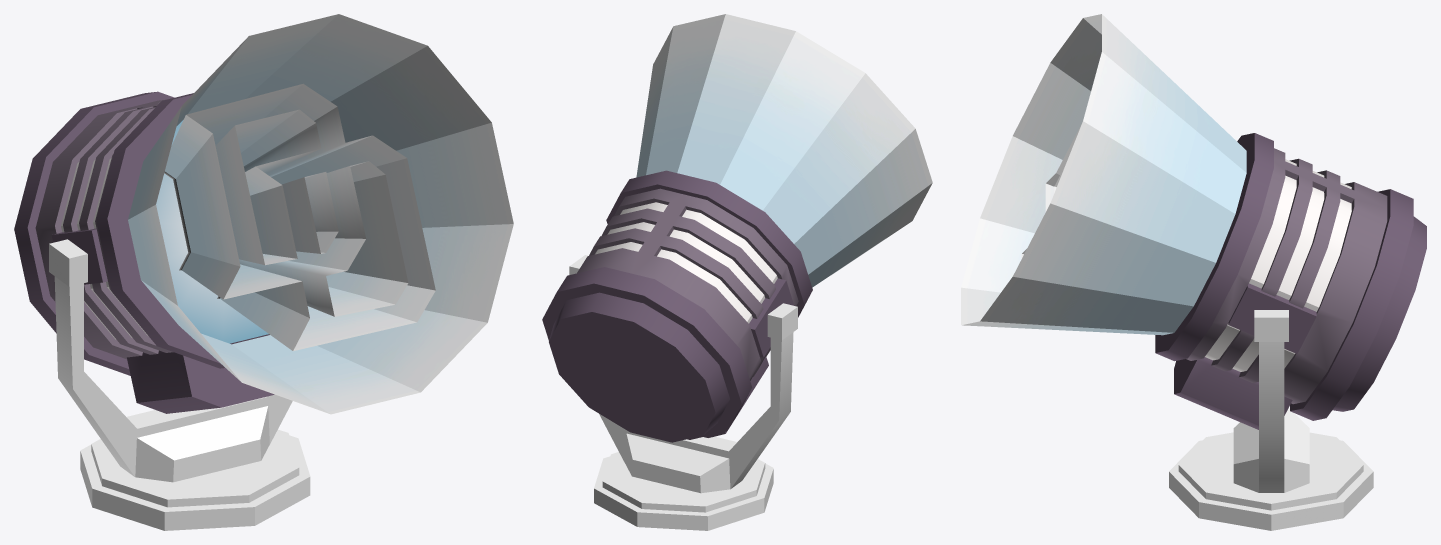
Rendered from Daredevil_Spotlight.fbx.
The picture shows the model from 3 angles, left to right: view 1: azimuth 30°, elevation 25°; view 2: azimuth 150°, elevation 25°; view 3: azimuth 270°, elevation 25°; orthographic projection. The views are drawn at different scales.
Visible parts, largest first — view 1: Daredevil_Spotlight_Shine, Daredevil_Spotlight-01, Daredevil_Spotlight-00, Daredevil_Spotlight; view 2: Daredevil_Spotlight-01, Daredevil_Spotlight_Shine, Daredevil_Spotlight-00, Daredevil_Spotlight; view 3: Daredevil_Spotlight_Shine, Daredevil_Spotlight-01, Daredevil_Spotlight-00, Daredevil_Spotlight.
Part boxes in pixels (x1,y1,x2,y2): Daredevil_Spotlight_Shine: [128, 14, 513, 414]; Daredevil_Spotlight-01: [14, 91, 274, 413]; Daredevil_Spotlight-00: [49, 239, 299, 507]; Daredevil_Spotlight: [80, 435, 310, 530]; Daredevil_Spotlight-01: [542, 170, 812, 442]; Daredevil_Spotlight_Shine: [636, 14, 932, 287]; Daredevil_Spotlight-00: [569, 255, 797, 512]; Daredevil_Spotlight: [594, 456, 773, 530]; Daredevil_Spotlight_Shine: [961, 14, 1246, 335]; Daredevil_Spotlight-01: [1155, 133, 1426, 429]; Daredevil_Spotlight-00: [1178, 310, 1363, 510]; Daredevil_Spotlight: [1169, 440, 1373, 530].
Size of the model in its own units: 8.85 by 13.34 by 12.38.
Materials: 5 (1 with a texture image).
